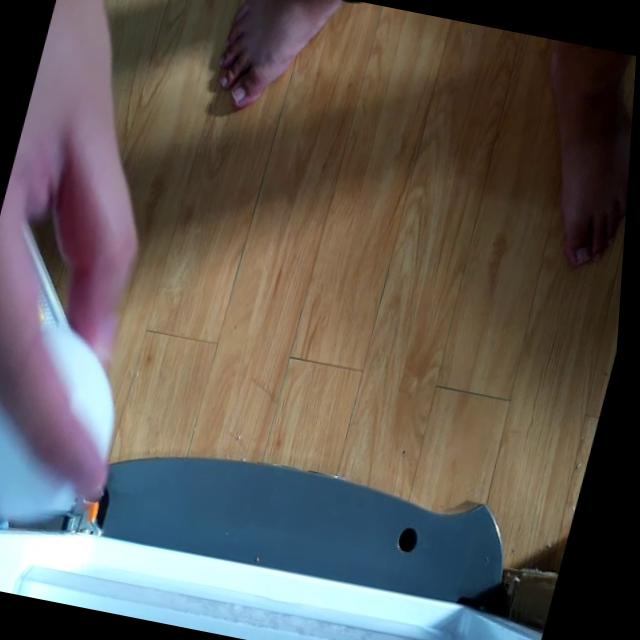egg: (0, 310, 144, 531)
